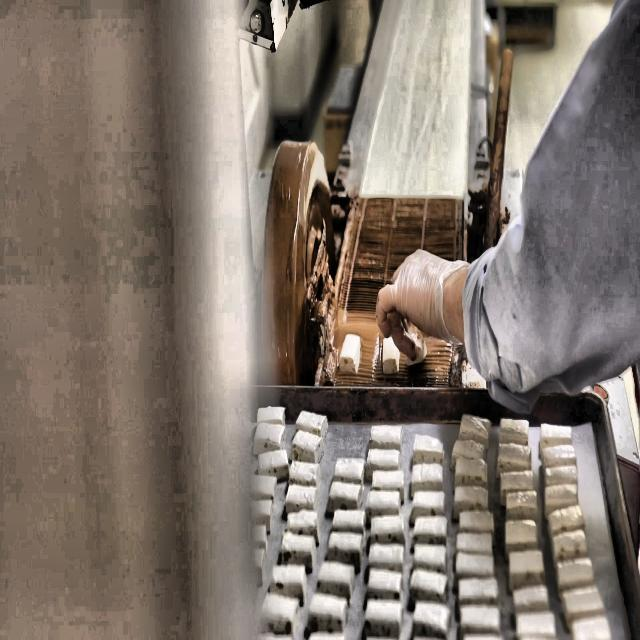gloved: (369, 235, 464, 363)
